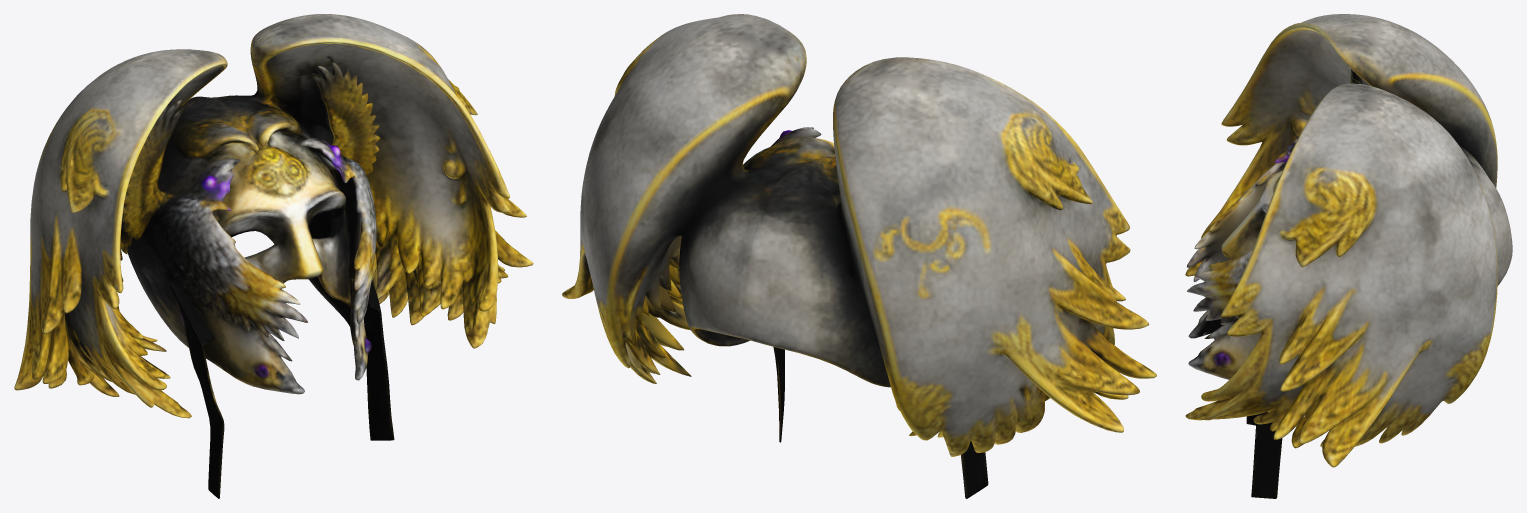
The model's file is topengyunani.glb.
3 renders of one model, left to right at view 1: azimuth 30°, elevation 25°; view 2: azimuth 150°, elevation 25°; view 3: azimuth 270°, elevation 25°, orthographic. The views are drawn at different scales.
Visible parts, largest first — view 1: material; view 2: material; view 3: material.
Part boxes in pixels (x1,y1,x2,y2): material: (14,14,533,498); material: (562,14,1156,498); material: (1185,14,1512,498).
Bounding box in the file's own units: 1.14 × 0.8889 × 0.6521.
1 material, 1 textured.
